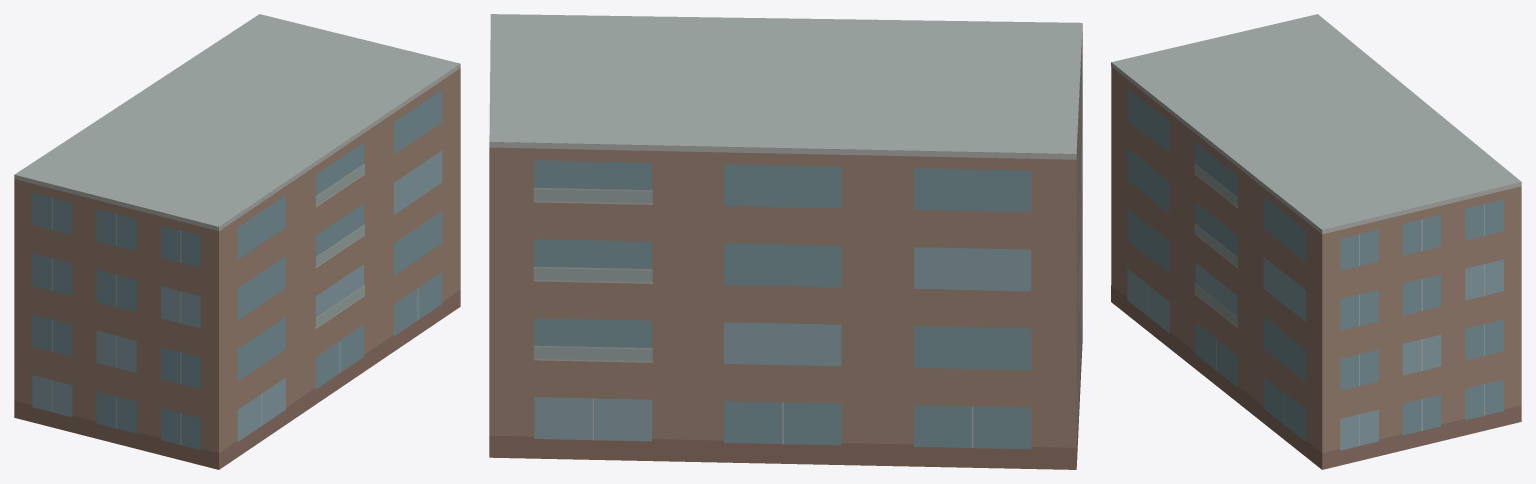
File: survey-upis-32710318.glb
The picture shows the model from 3 angles, left to right: view 1: azimuth 30°, elevation 25°; view 2: azimuth 150°, elevation 25°; view 3: azimuth 270°, elevation 25°; orthographic projection. The views are drawn at different scales.
Visible parts, largest first — view 1: survey-upis-32710318.tmp; view 2: survey-upis-32710318.tmp; view 3: survey-upis-32710318.tmp.
Part boxes in pixels (left/top/right/bottom): survey-upis-32710318.tmp: left=14, top=14, right=460, bottom=469; survey-upis-32710318.tmp: left=489, top=14, right=1082, bottom=469; survey-upis-32710318.tmp: left=1111, top=14, right=1521, bottom=469.
Bounding box in the file's own units: 26.08 × 13.5 × 20.95.
